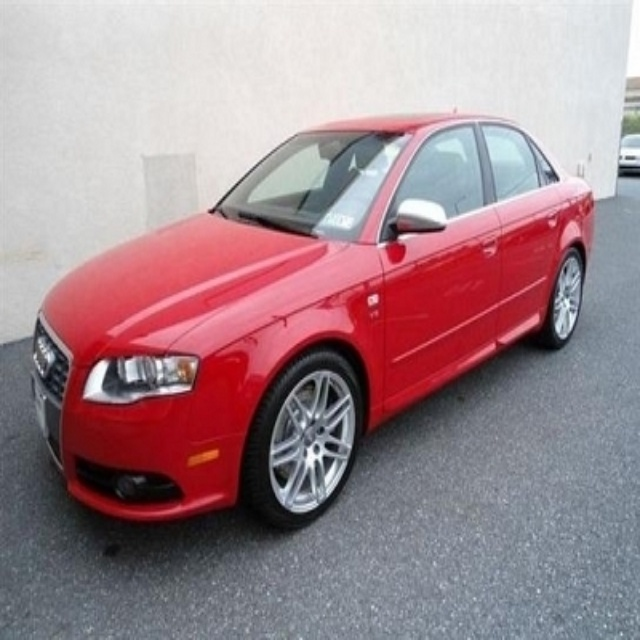Car: (29, 113, 595, 531)
